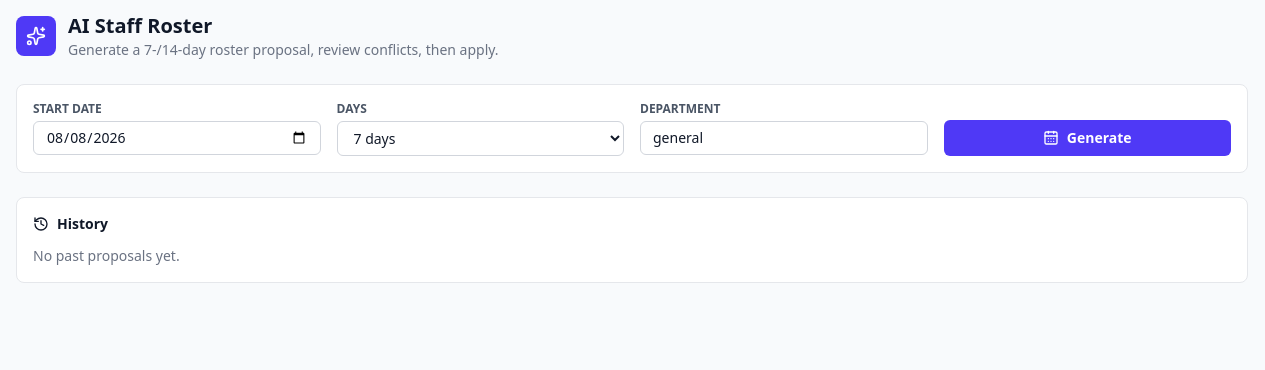
Scenario: AI Staff Roster dashboard page › falls back to the generic error message when propose rejects with a non-Error value
Step 1. Click the button "Generate" → (1087, 138), box [944,120,1231,156]
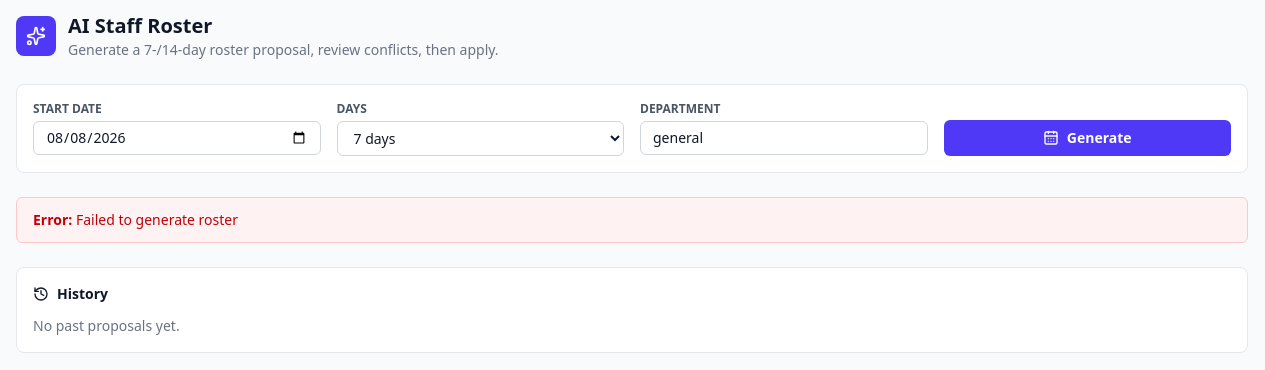
Expected: the text "Error: Failed to generate roster" is shown, [16,197,1248,243]
